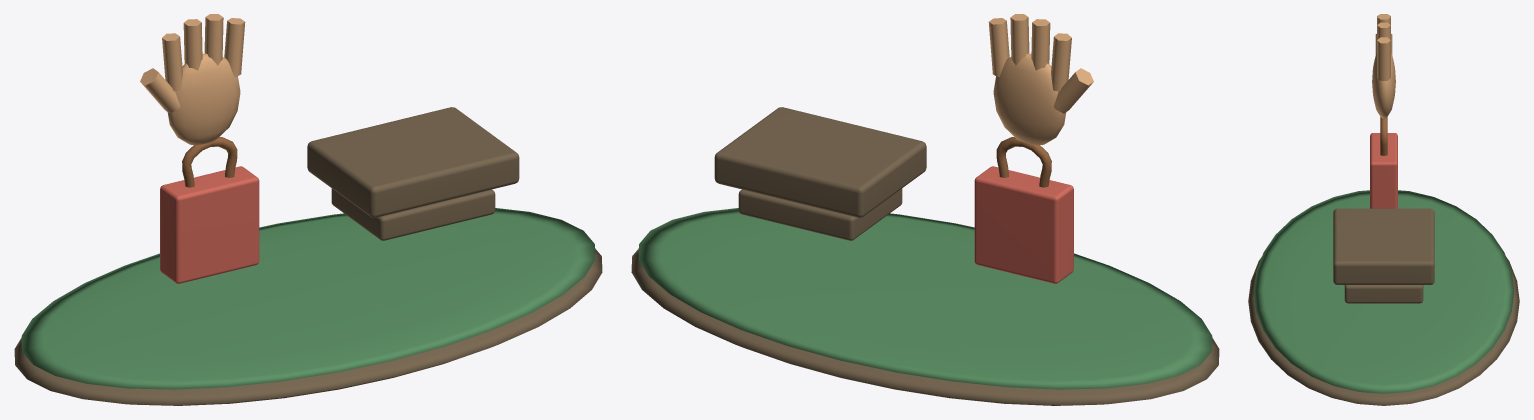
File: complete-second-hand-earth-hanging.glb
3 views of the same model, side by side, from view 1: azimuth 30°, elevation 25°; view 2: azimuth 150°, elevation 25°; view 3: azimuth 270°, elevation 25° (orthographic). The views are drawn at different scales.
Parts seen in each view (by area): view 1: complete-second-hand-earth-hanging_surface_01, complete-second-hand-earth-hanging_surface_00, complete-second-hand-earth-hanging_surface_03, complete-second-hand-earth-hanging_surface_02, complete-second-hand-earth-hanging_surface_04; view 2: complete-second-hand-earth-hanging_surface_01, complete-second-hand-earth-hanging_surface_00, complete-second-hand-earth-hanging_surface_03, complete-second-hand-earth-hanging_surface_02, complete-second-hand-earth-hanging_surface_04; view 3: complete-second-hand-earth-hanging_surface_01, complete-second-hand-earth-hanging_surface_00, complete-second-hand-earth-hanging_surface_03, complete-second-hand-earth-hanging_surface_02, complete-second-hand-earth-hanging_surface_04.
Part boxes in pixels (x1,y1,x2,y2): complete-second-hand-earth-hanging_surface_01: [21, 208, 595, 389]; complete-second-hand-earth-hanging_surface_00: [14, 107, 602, 405]; complete-second-hand-earth-hanging_surface_03: [160, 166, 259, 283]; complete-second-hand-earth-hanging_surface_02: [140, 14, 245, 144]; complete-second-hand-earth-hanging_surface_04: [182, 137, 237, 187]; complete-second-hand-earth-hanging_surface_01: [638, 208, 1212, 389]; complete-second-hand-earth-hanging_surface_00: [631, 107, 1219, 405]; complete-second-hand-earth-hanging_surface_03: [974, 166, 1073, 283]; complete-second-hand-earth-hanging_surface_02: [988, 14, 1093, 144]; complete-second-hand-earth-hanging_surface_04: [996, 137, 1051, 187]; complete-second-hand-earth-hanging_surface_01: [1253, 190, 1514, 393]; complete-second-hand-earth-hanging_surface_00: [1248, 208, 1519, 405]; complete-second-hand-earth-hanging_surface_03: [1370, 133, 1397, 208]; complete-second-hand-earth-hanging_surface_02: [1372, 14, 1395, 118]; complete-second-hand-earth-hanging_surface_04: [1380, 117, 1387, 155].
Size of the model in its own units: 4.56 by 2.58 by 2.5.
